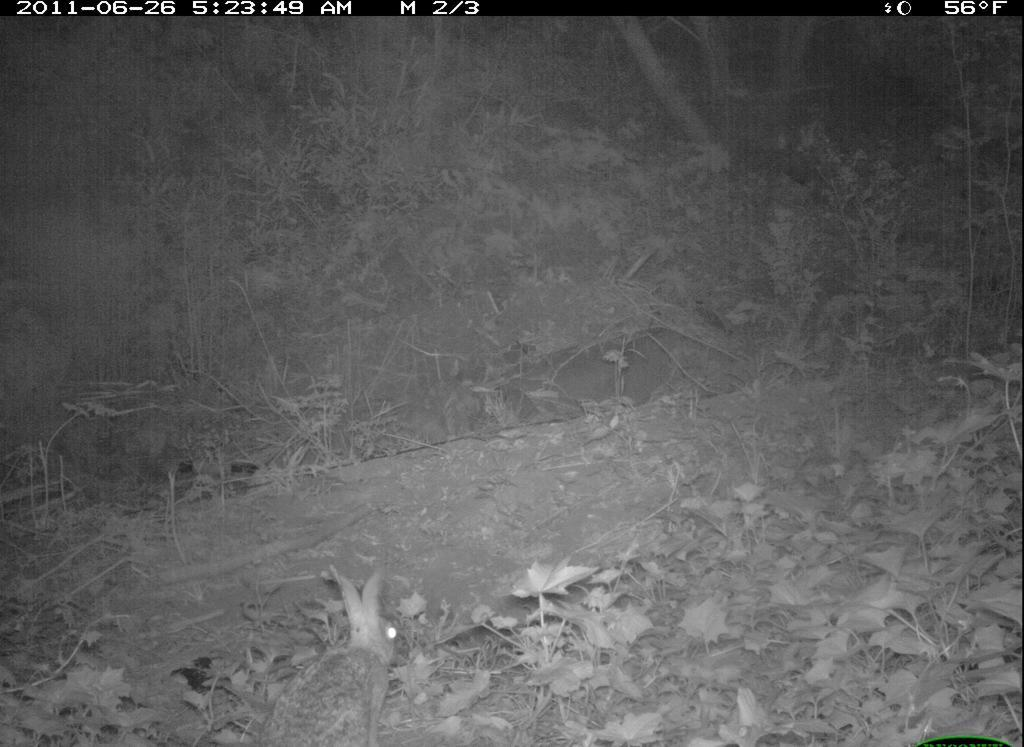rabbit: (263, 556, 414, 747)
